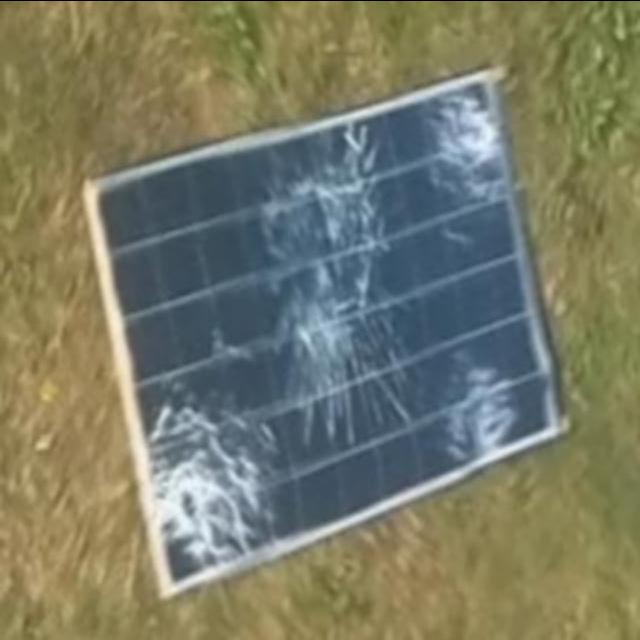cracked: (83, 70, 574, 593)
